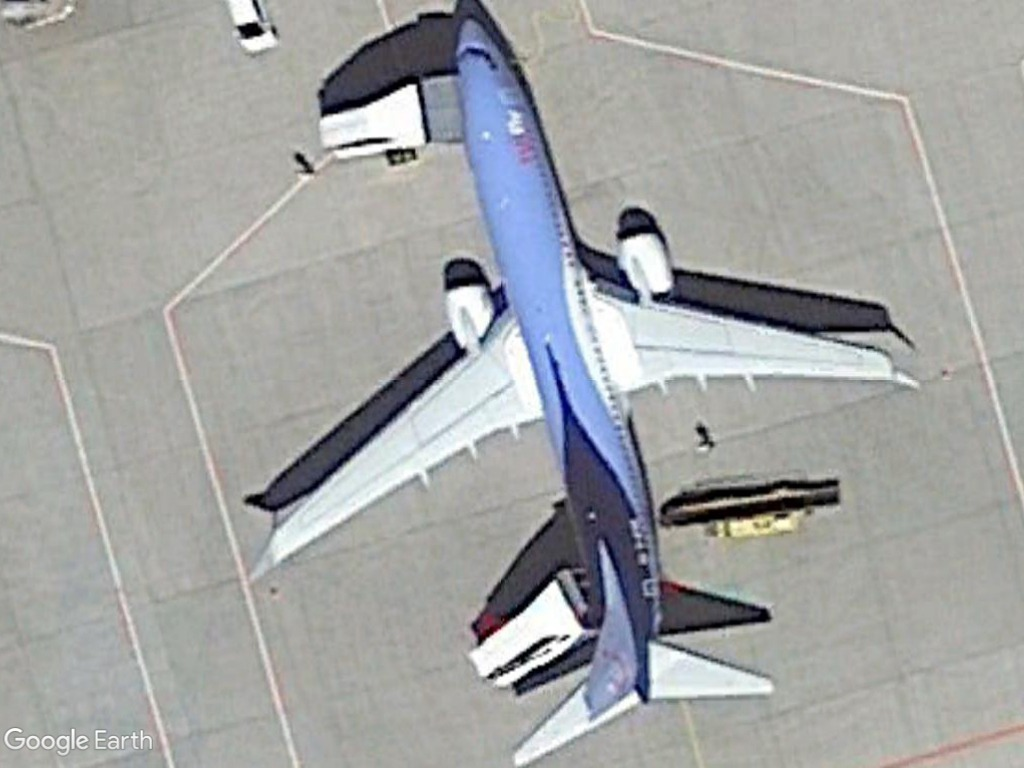airliner: (224, 4, 912, 768)
